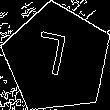L_S: (37, 31, 77, 87)
